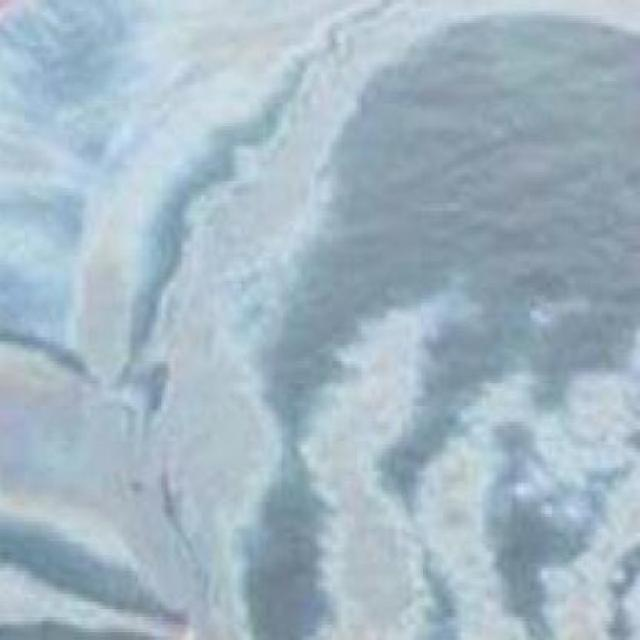sheen: (0, 1, 394, 640), (303, 308, 431, 639), (543, 351, 640, 640)
